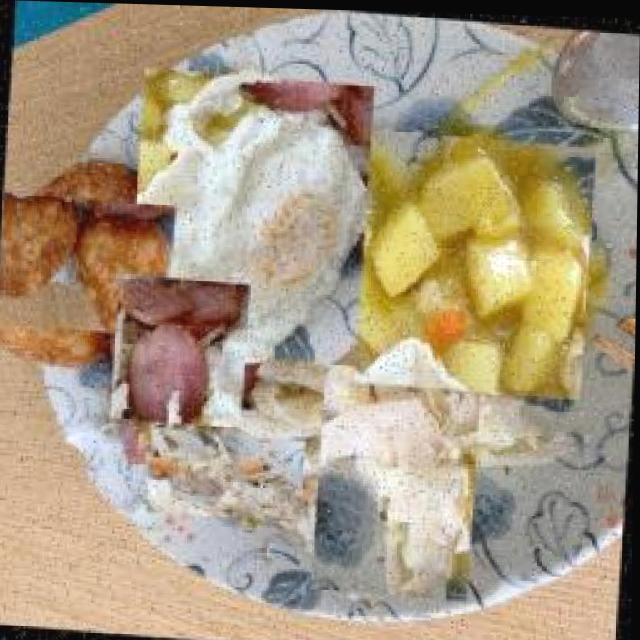chinese_cabbage: (284, 332, 519, 570)
chinese_sausage: (108, 278, 255, 426)
curry: (336, 128, 599, 394)
fried_eggs: (129, 68, 377, 367)
mung_bean_sprouts: (149, 429, 308, 525)
triangle_hash_brown: (0, 173, 158, 357)
